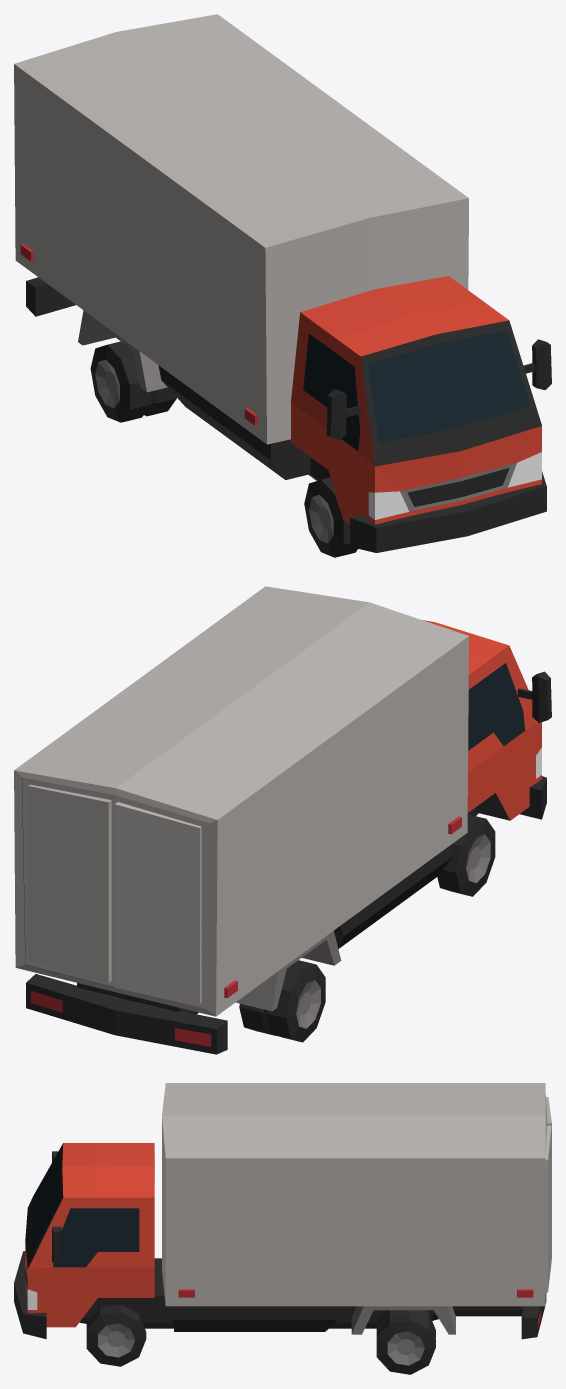
The model's file is truck.glb.
3 views of the same model, one above another, from view 1: azimuth 30°, elevation 25°; view 2: azimuth 150°, elevation 25°; view 3: azimuth 270°, elevation 25° (orthographic). The views are drawn at different scales.
Visible parts, largest first — view 1: truck-base, truck-wheel_BR, truck-wheel_FR; view 2: truck-base, truck-door_R, truck-door_L, truck-wheel_BR, truck-wheel_FR; view 3: truck-base, truck-wheel_BL, truck-wheel_FL, truck-door_L.
Part boxes in pixels (x1,y1,x2,y2): truck-base: (14,14,551,552); truck-wheel_BR: (90,341,176,422); truck-wheel_FR: (304,477,357,557); truck-base: (14,586,551,1054); truck-door_R: (114,795,209,1008); truck-door_L: (22,777,114,986); truck-wheel_BR: (239,960,325,1042); truck-wheel_FR: (437,814,495,896); truck-base: (14,1083,547,1339); truck-wheel_BL: (376,1310,435,1374); truck-wheel_FL: (86,1304,146,1366); truck-door_L: (545,1125,551,1292).
Size of the model in its own units: 2.26 by 2.89 by 6.3.
Materials: 1 (1 with a texture image).
